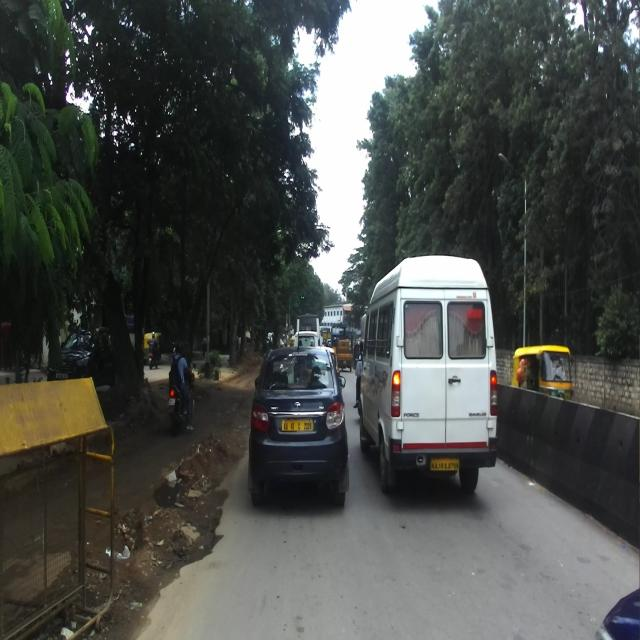car: (246, 330, 349, 509), (44, 326, 119, 389)
mini-bus: (353, 256, 498, 502)
motorcycle: (166, 363, 196, 438)
